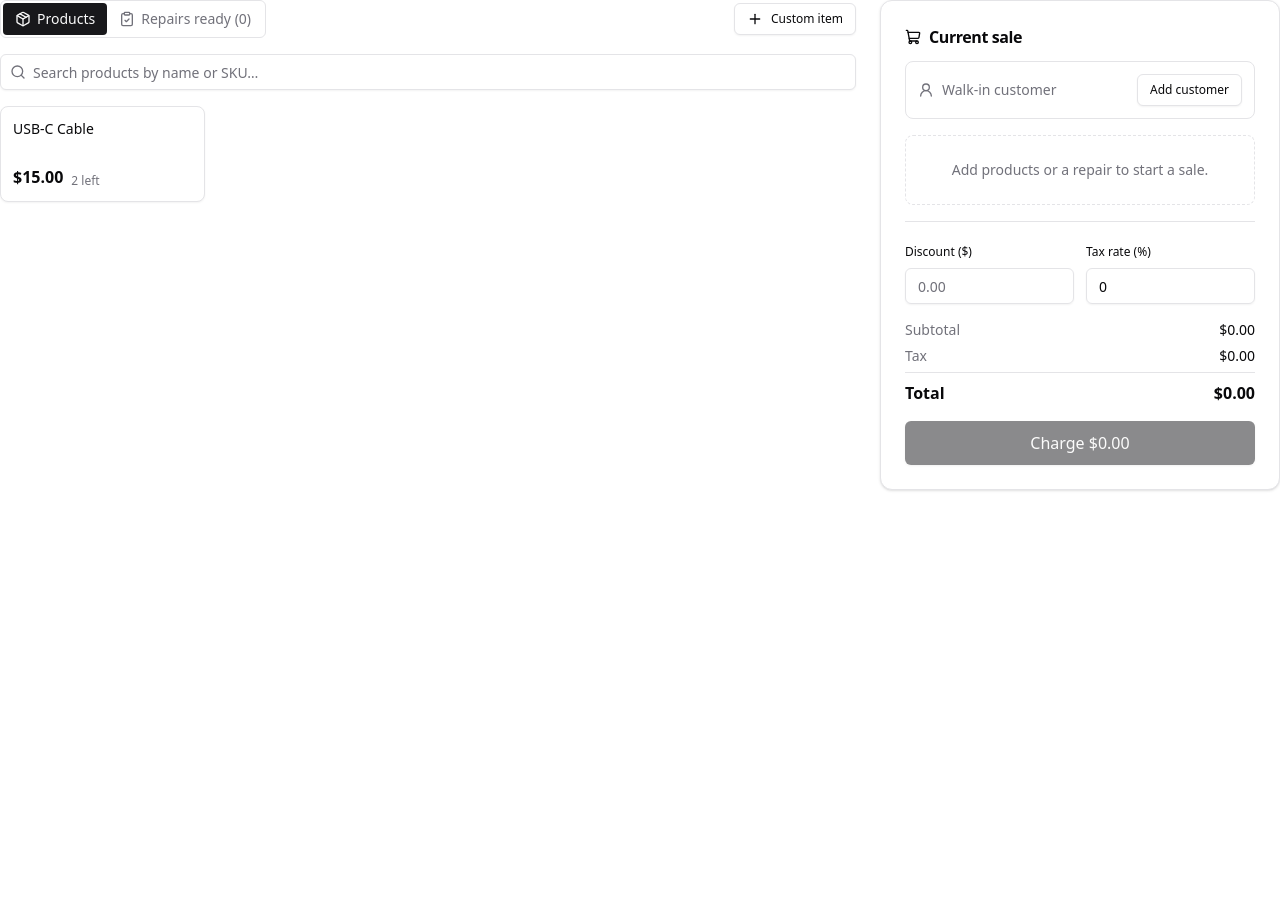
PosTerminal › creates the invoice and opens payment
Click the button "USB-C Cable $15.00 2 left" at (102, 154), box [0,106,205,202]
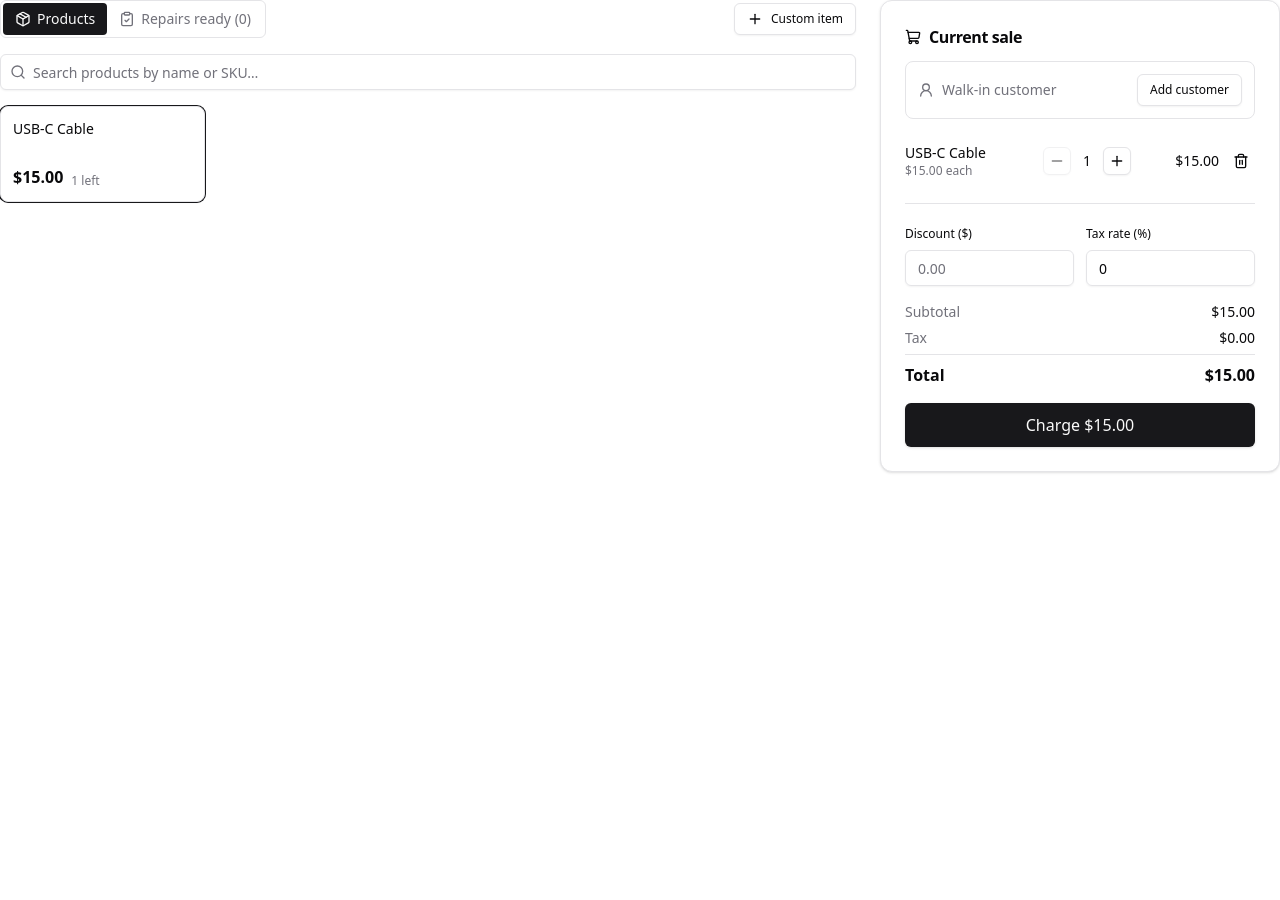
Click the button "Charge $15.00" at (1080, 425), box [905,403,1255,447]
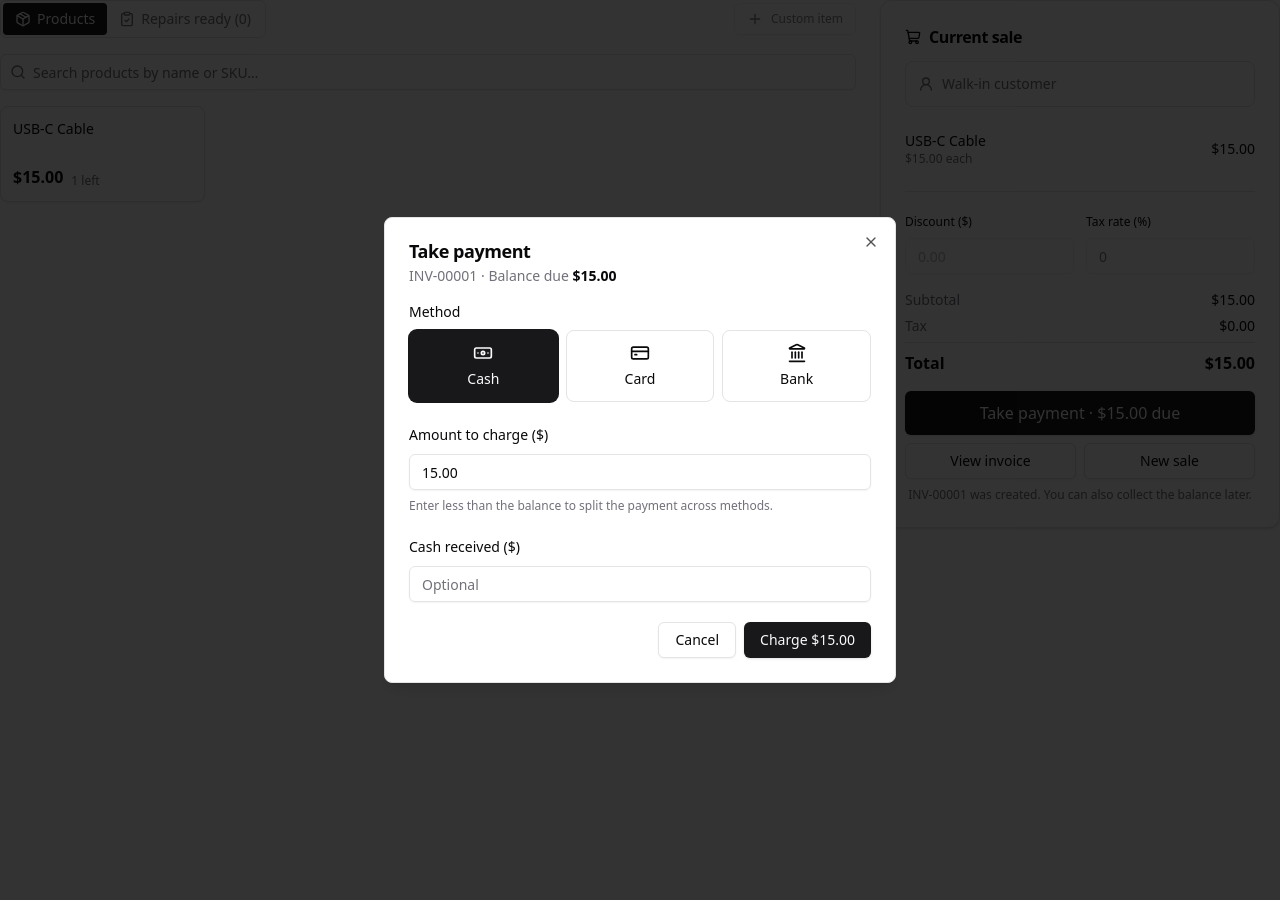
Check: the dialog "Take payment" is shown, box [384,217,896,683]
